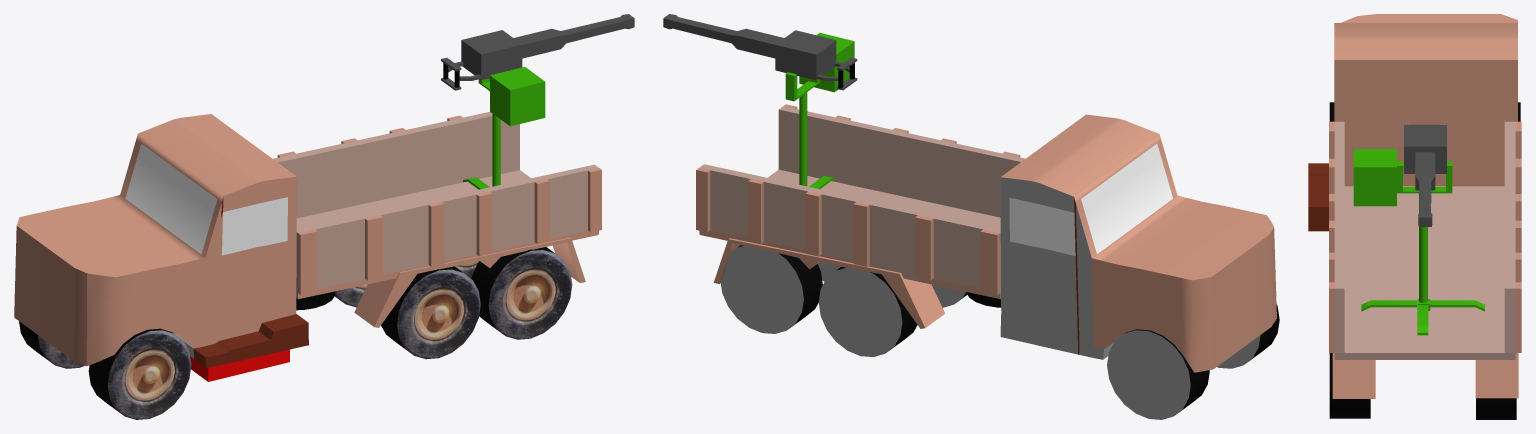
File: Army Truck.fbx
3 views of the same model, side by side, from view 1: azimuth 30°, elevation 25°; view 2: azimuth 150°, elevation 25°; view 3: azimuth 270°, elevation 25° (orthographic). The views are drawn at different scales.
Visible parts, largest first — view 1: pCube1, pCube4, pasted__pCylinder1 (×2), pasted__pasted__pCylinder1, pCylinder1, Machine_Gun, pCube2, pCube8, pCube3, pCylinder2; view 2: pCube1, pCube4, pasted__pasted__pasted__pCylinder1, pasted__pCylinder1, pasted__pasted__pCylinder1, Machine_Gun, pasted__pCube2, pCylinder1, pCube8, pCylinder2, pCube7; view 3: pCube4, pCube1, Machine_Gun, pCube8, pasted__pCube2, pCube2, pasted__pasted__pCylinder1, pasted__pasted__pasted__pCylinder1, pCylinder2, pCube7, pCube5, pasted__pasted__pCube5 (+1 smaller).
Boxes of the visible parts, <box> form: pCube1: <box>14,114,308,367</box>; pCube4: <box>273,112,601,299</box>; pasted__pCylinder1 (×2): <box>19,266,480,368</box>; pasted__pasted__pCylinder1: <box>471,247,572,339</box>; pCylinder1: <box>88,328,191,419</box>; Machine_Gun: <box>461,14,634,79</box>; pCube2: <box>354,237,585,327</box>; pCube8: <box>490,67,545,126</box>; pCube3: <box>190,349,289,381</box>; pCylinder2: <box>492,113,500,186</box>; pCube1: <box>1000,114,1276,372</box>; pCube4: <box>696,104,1025,298</box>; pasted__pasted__pasted__pCylinder1: <box>720,245,822,333</box>; pasted__pCylinder1: <box>1107,329,1209,419</box>; pasted__pasted__pCylinder1: <box>818,266,917,356</box>; Machine_Gun: <box>663,14,836,80</box>; pasted__pCube2: <box>713,238,944,328</box>; pCylinder1: <box>1217,304,1279,368</box>; pCube8: <box>799,32,854,92</box>; pCylinder2: <box>799,92,807,186</box>; pCube7: <box>785,72,819,101</box>; pCube4: <box>1329,121,1521,359</box>; pCube1: <box>1308,14,1517,231</box>; Machine_Gun: <box>1404,125,1446,226</box>; pCube8: <box>1353,149,1396,206</box>; pasted__pCube2: <box>1475,353,1518,398</box>; pCube2: <box>1332,353,1375,398</box>; pasted__pasted__pCylinder1: <box>1329,353,1370,418</box>; pasted__pasted__pasted__pCylinder1: <box>1476,398,1516,419</box>; pCylinder2: <box>1419,193,1427,302</box>; pCube7: <box>1397,161,1452,193</box>; pCube5: <box>1361,300,1416,311</box>; pasted__pasted__pCube5: <box>1430,300,1484,311</box>.
Bounding box in the file's own units: 16.82 × 7.24 × 4.98.
Materials: 20 (6 with a texture image).
